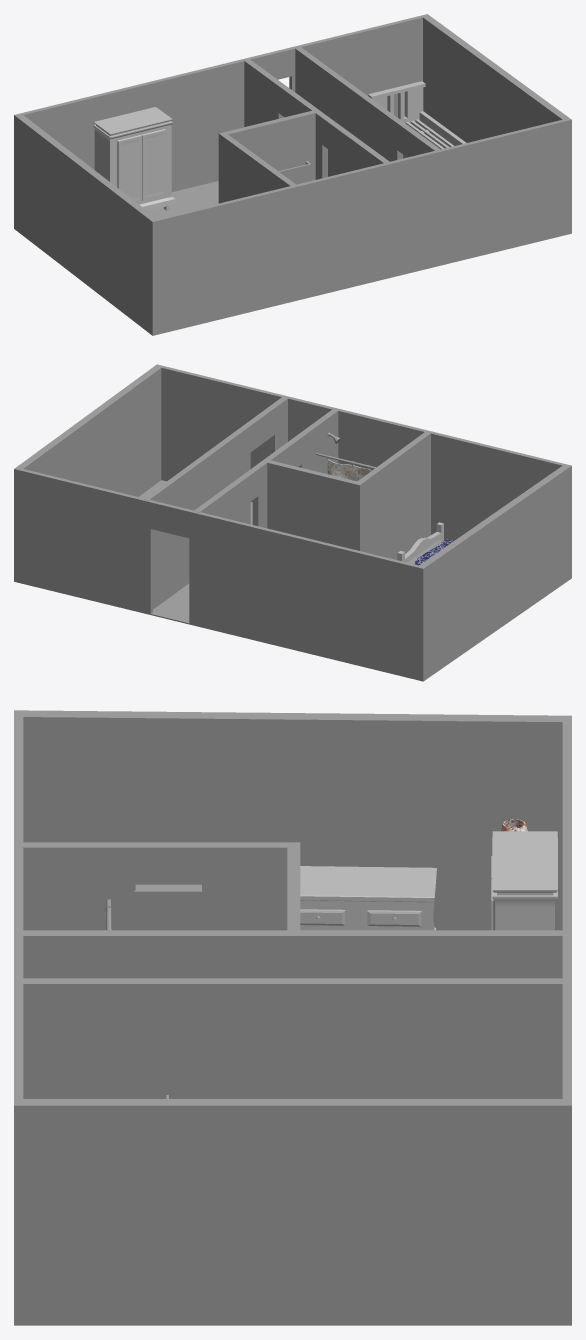
The model's file is floor2 (1).fbx.
The picture shows the model from 3 angles, top to bottom: view 1: azimuth 30°, elevation 25°; view 2: azimuth 150°, elevation 25°; view 3: azimuth 270°, elevation 25°; orthographic projection. The views are drawn at different scales.
Visible parts, largest first — view 1: floor3withdoors_pCube14, pCube16, floor3withdoors_pCube15, pCube17, Bedroom_wardrobe:pCube14, pCube18, player_bed, wardrobe_door_2, wardrobe_door_1; view 2: floor3withdoors_pCube14, pCube16, pCube18, pCube17, floor3withdoors_pCube15, pCube98, shower_curtain; view 3: floor3withdoors_pCube14, pCube16, floor3withdoors_pCube15, pCube18, Living_room_dresser:pCube1, Bedroom_wardrobe:pCube14, mirror_door, pCube17.
Part boxes in pixels (x1,y1,x2,y2): floor3withdoors_pCube14: [14, 14, 571, 335]; pCube16: [295, 46, 440, 176]; floor3withdoors_pCube15: [244, 59, 389, 179]; pCube17: [225, 110, 315, 184]; Bedroom_wardrobe:pCube14: [93, 107, 176, 210]; pCube18: [218, 132, 296, 203]; player_bed: [368, 81, 466, 158]; wardrobe_door_2: [141, 129, 165, 200]; wardrobe_door_1: [117, 135, 141, 202]; floor3withdoors_pCube14: [14, 364, 571, 681]; pCube16: [143, 397, 287, 609]; pCube18: [354, 431, 430, 559]; pCube17: [267, 460, 356, 549]; floor3withdoors_pCube15: [194, 409, 338, 528]; pCube98: [397, 522, 443, 562]; shower_curtain: [327, 459, 371, 481]; floor3withdoors_pCube14: [14, 710, 571, 1325]; pCube16: [22, 978, 565, 1098]; floor3withdoors_pCube15: [22, 930, 565, 1098]; pCube18: [21, 842, 300, 930]; Living_room_dresser:pCube1: [300, 866, 436, 930]; Bedroom_wardrobe:pCube14: [492, 831, 557, 930]; mirror_door: [134, 890, 202, 930]; pCube17: [287, 847, 300, 930].
Size of the model in its own units: 42.9 by 11.42 by 25.6.
